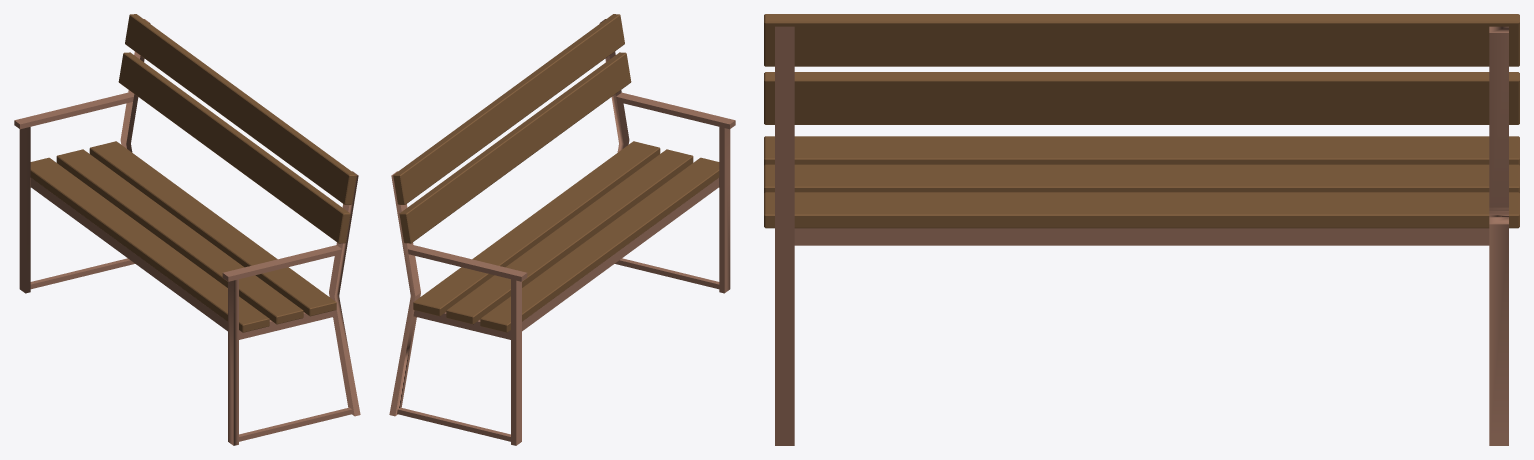
3 views of the same model, side by side, from view 1: azimuth 30°, elevation 25°; view 2: azimuth 150°, elevation 25°; view 3: azimuth 270°, elevation 25° (orthographic). The views are drawn at different scales.
Visible parts, largest first — view 1: B_04_3; view 2: B_04_3; view 3: B_04_3.
Boxes of the visible parts, left/top/right/bottom form: B_04_3: left=14, top=14, right=360, bottom=445; B_04_3: left=389, top=14, right=735, bottom=445; B_04_3: left=764, top=14, right=1519, bottom=445.
Size of the model in its own units: 50.76 by 89.97 by 146.
